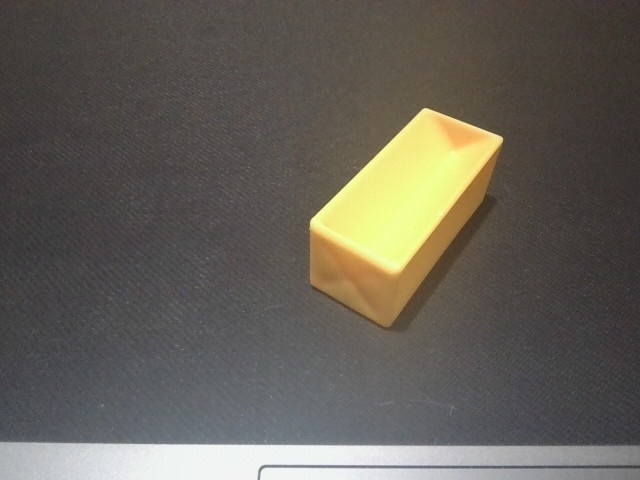YellowSample: (303, 104, 505, 333)
